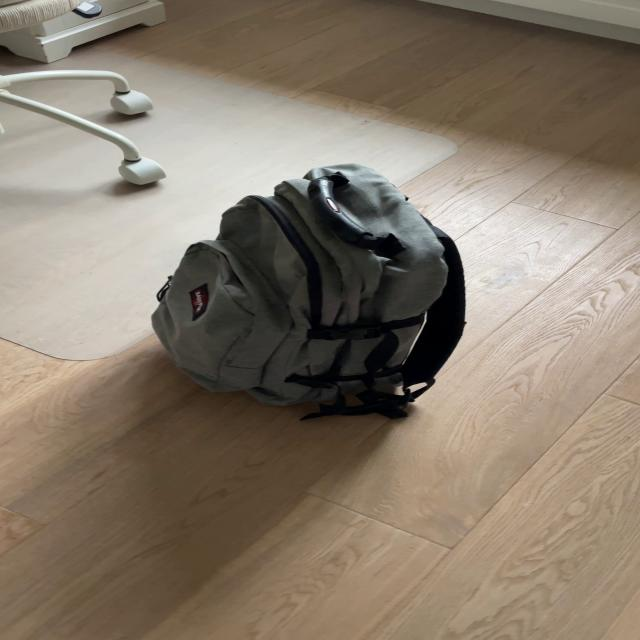backpack: (138, 152, 480, 426)
